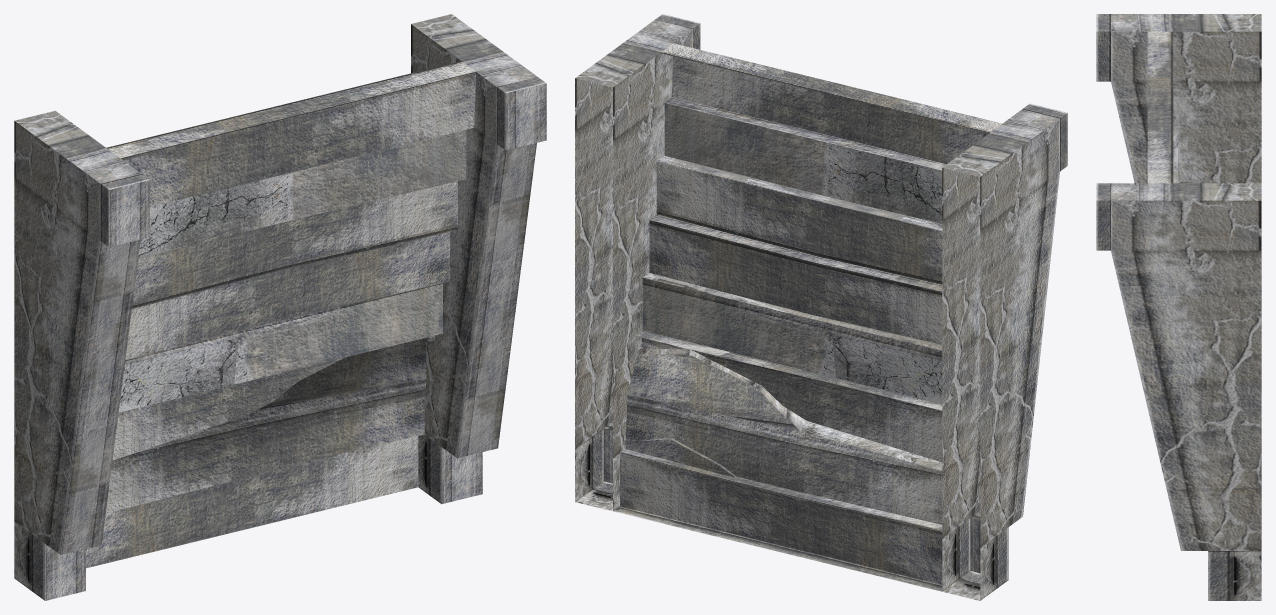
The model's file is rv_mod_cit_ruin_stairs.obj.
3 views of the same model, side by side, from view 1: azimuth 30°, elevation 25°; view 2: azimuth 150°, elevation 25°; view 3: azimuth 270°, elevation 25° (orthographic). The views are drawn at different scales.
Parts seen in each view (by area): view 1: rv_mod_cit_ruin_stairs; view 2: rv_mod_cit_ruin_stairs; view 3: rv_mod_cit_ruin_stairs.
Boxes of the visible parts, bbox=[...] form: rv_mod_cit_ruin_stairs: bbox=[14, 14, 546, 600]; rv_mod_cit_ruin_stairs: bbox=[575, 14, 1067, 600]; rv_mod_cit_ruin_stairs: bbox=[1096, 14, 1261, 600].
Size of the model in its own units: 8 by 8 by 3.
1 material, 1 textured.
